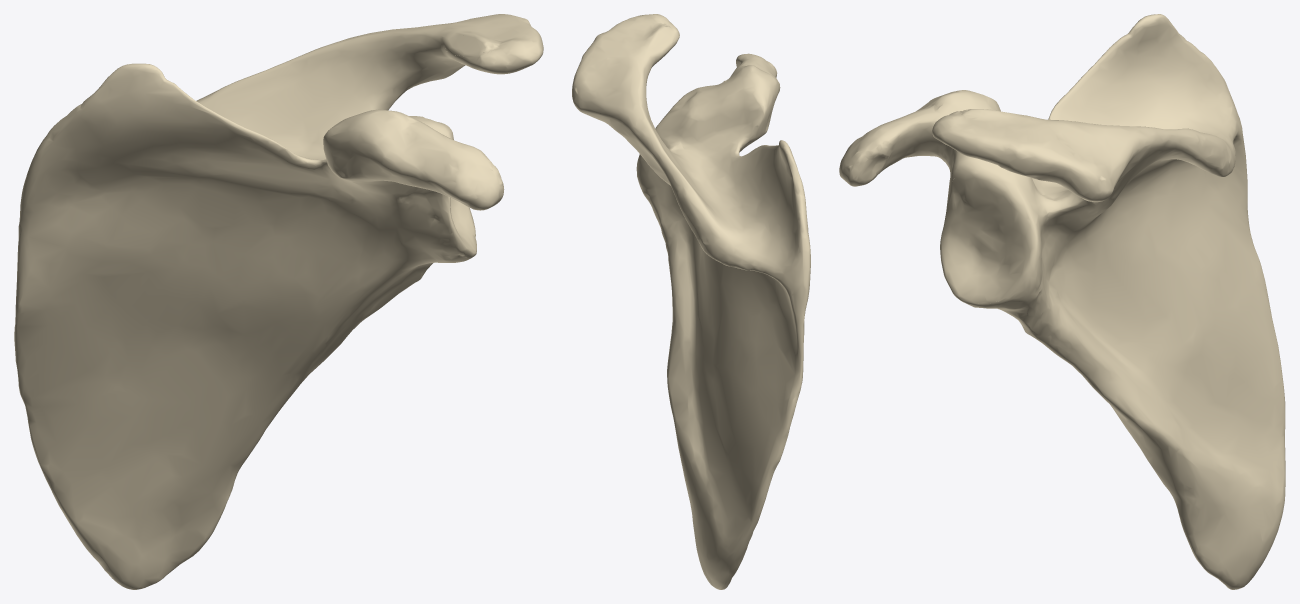
File: esqueleto-scapula-l.glb
3 views of the same model, side by side, from view 1: azimuth 30°, elevation 25°; view 2: azimuth 150°, elevation 25°; view 3: azimuth 270°, elevation 25° (orthographic). The views are drawn at different scales.
Visible parts, largest first — view 1: Scapula.l; view 2: Scapula.l; view 3: Scapula.l.
Part boxes in pixels (box(x1,y1,x2,y2)): Scapula.l: box(14, 14, 543, 589); Scapula.l: box(572, 14, 810, 589); Scapula.l: box(839, 14, 1285, 589).
Bounding box in the file's own units: 0.113 × 0.1636 × 0.1141.
